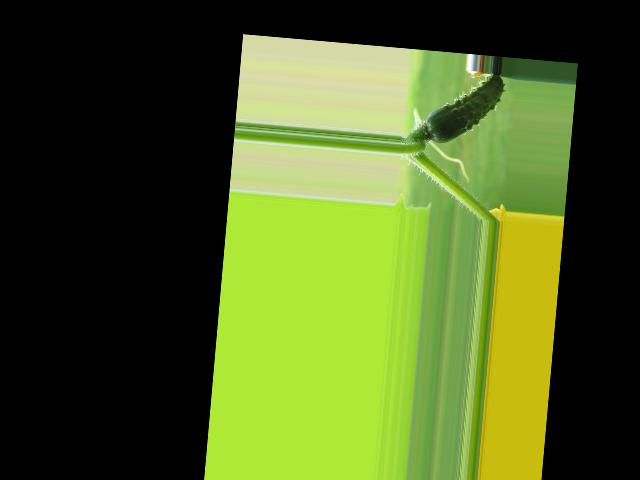cucumber: (424, 69, 505, 149)
